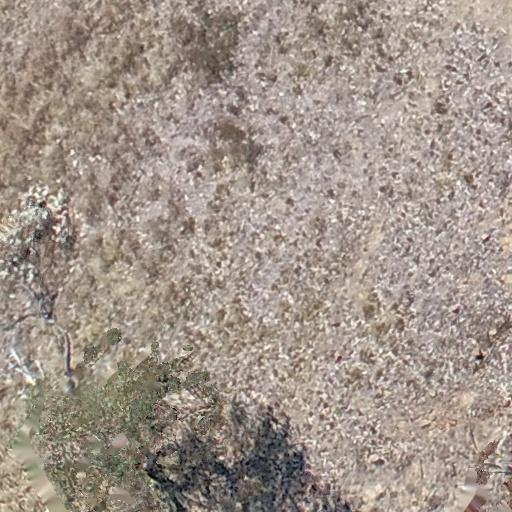stone: (367, 453, 382, 464), (451, 304, 460, 314), (427, 389, 437, 397)
